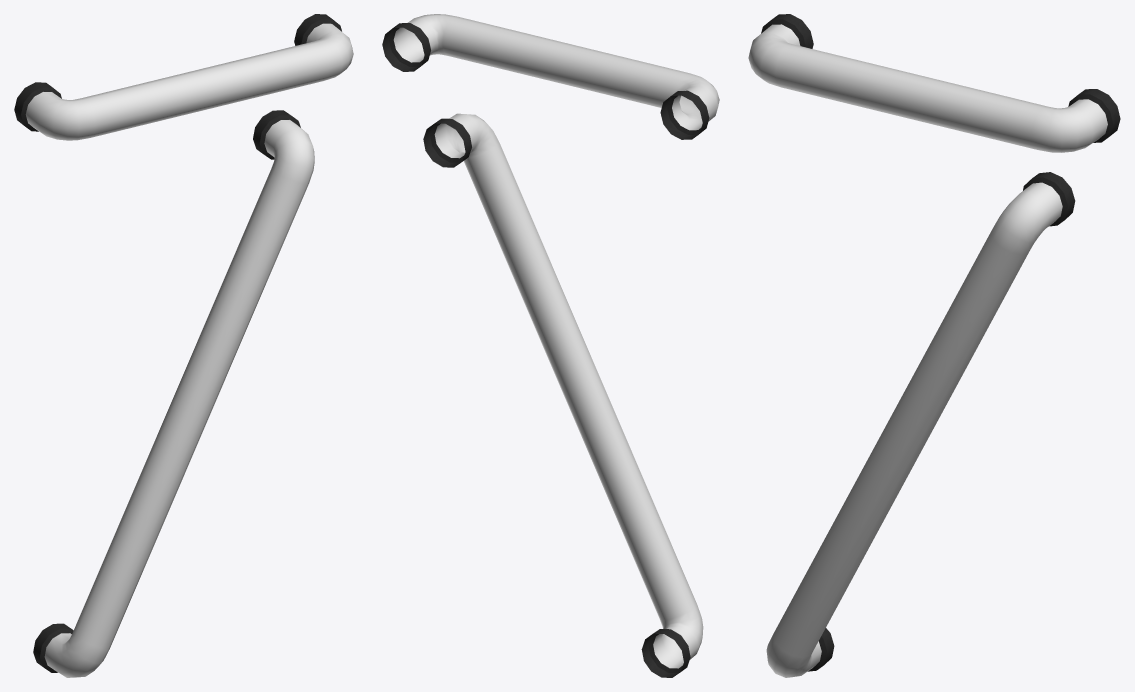
Rendered from LettersNeon01_7.FBX.
3 views of the same model, side by side, from view 1: azimuth 30°, elevation 25°; view 2: azimuth 150°, elevation 25°; view 3: azimuth 330°, elevation 25° (orthographic). The views are drawn at different scales.
Parts seen in each view (by area): view 1: LettersNeon01_7; view 2: LettersNeon01_7; view 3: LettersNeon01_7.
Boxes of the visible parts, x1,y1,x2,y2 form: LettersNeon01_7: (14, 14, 353, 677); LettersNeon01_7: (382, 14, 719, 677); LettersNeon01_7: (748, 14, 1120, 677).
Size of what is drawn, in the model's own units: 0.2746 by 0.4806 by 0.054.
